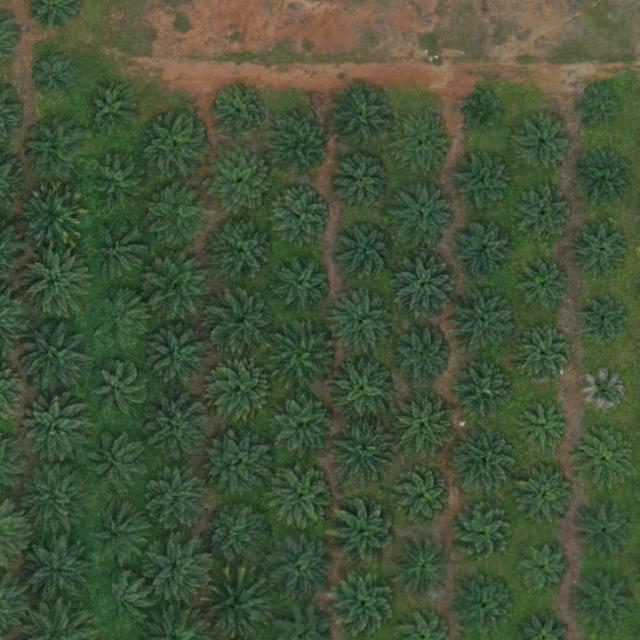Dead: (582, 370, 629, 417)
Healthy: (209, 217, 280, 288), (327, 355, 398, 426), (332, 417, 403, 488), (449, 286, 520, 357), (20, 247, 91, 317), (17, 320, 88, 390), (20, 396, 90, 467), (144, 320, 214, 391), (207, 147, 277, 218), (270, 320, 340, 391), (329, 82, 399, 153), (326, 288, 396, 359), (391, 251, 461, 322), (449, 427, 519, 498), (329, 499, 399, 570), (203, 501, 273, 572), (21, 535, 91, 606), (22, 464, 92, 534), (146, 253, 216, 323), (144, 464, 214, 534), (209, 289, 279, 359), (209, 429, 279, 499), (330, 568, 400, 638), (145, 535, 215, 605), (149, 398, 212, 461), (210, 358, 273, 421), (274, 394, 337, 457), (334, 154, 397, 217), (335, 220, 398, 283), (392, 115, 455, 178), (452, 151, 515, 214), (454, 219, 517, 282), (452, 502, 515, 565), (392, 465, 455, 528), (392, 536, 455, 599), (23, 118, 85, 181), (152, 185, 214, 248), (271, 117, 333, 180), (273, 254, 335, 317), (394, 181, 456, 244), (394, 397, 457, 459), (453, 359, 515, 422), (513, 113, 575, 176), (577, 427, 639, 490), (573, 499, 635, 562), (515, 464, 578, 526), (270, 466, 332, 529), (268, 536, 330, 599), (90, 502, 152, 565), (144, 117, 206, 179), (271, 185, 333, 247), (393, 324, 455, 386), (575, 571, 637, 633), (455, 575, 517, 637), (86, 83, 141, 138), (95, 158, 150, 213), (93, 226, 148, 281), (92, 435, 147, 490), (518, 190, 573, 245), (577, 154, 632, 209), (575, 225, 630, 280), (518, 544, 573, 599), (96, 575, 151, 630), (95, 291, 149, 346), (92, 363, 146, 418), (211, 84, 265, 139), (516, 261, 570, 316), (518, 330, 572, 385), (522, 403, 569, 450), (581, 299, 628, 346)
Small: (581, 89, 620, 129), (467, 90, 506, 130), (34, 56, 74, 95)
Yellow: (18, 182, 88, 252)
